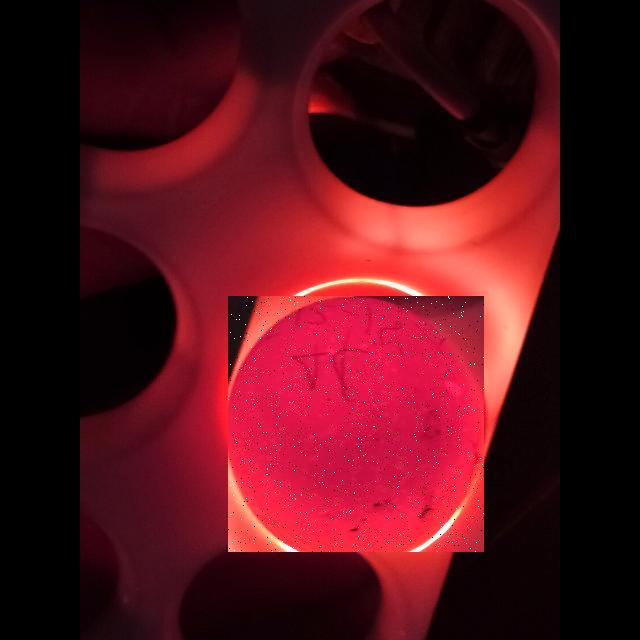Infertile: (228, 296, 484, 552)
